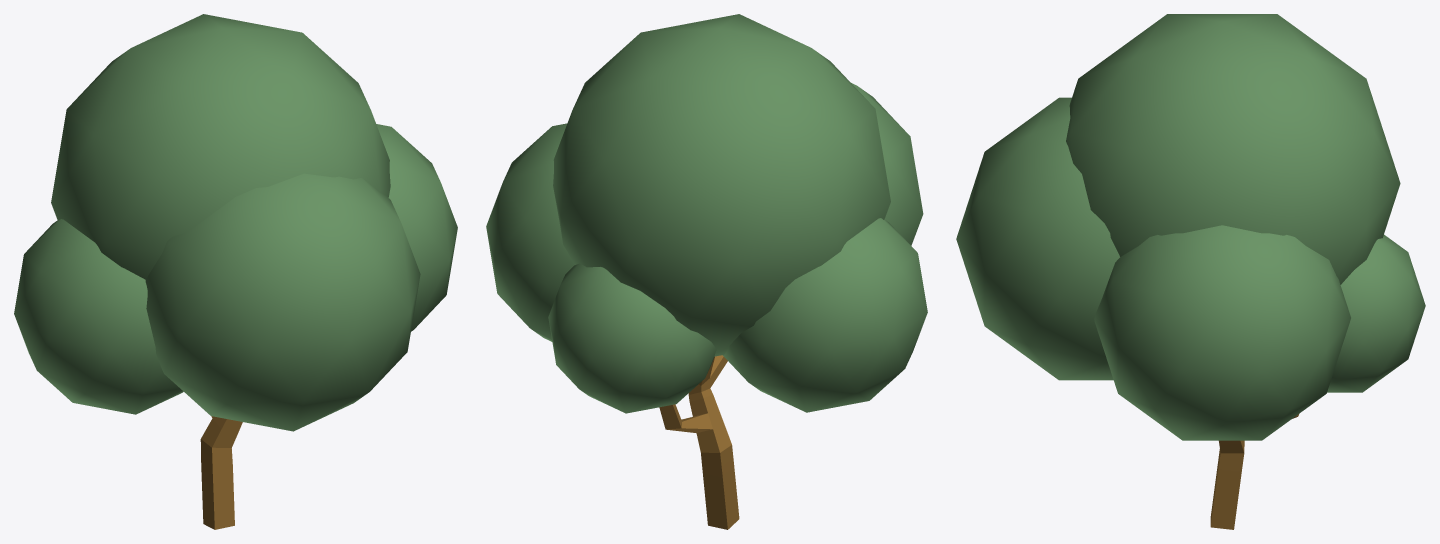
File: Cali_2.fbx
3 views of the same model, side by side, from view 1: azimuth 30°, elevation 25°; view 2: azimuth 150°, elevation 25°; view 3: azimuth 270°, elevation 25° (orthographic). The views are drawn at different scales.
Visible parts, largest first — view 1: Icosphere.001; view 2: Icosphere.001; view 3: Icosphere.001.
Boxes of the visible parts, bbox=[...] form: Icosphere.001: bbox=[14, 14, 457, 529]; Icosphere.001: bbox=[486, 14, 927, 529]; Icosphere.001: bbox=[956, 14, 1425, 529].
Size of the model in its own units: 124 by 145 by 122.
